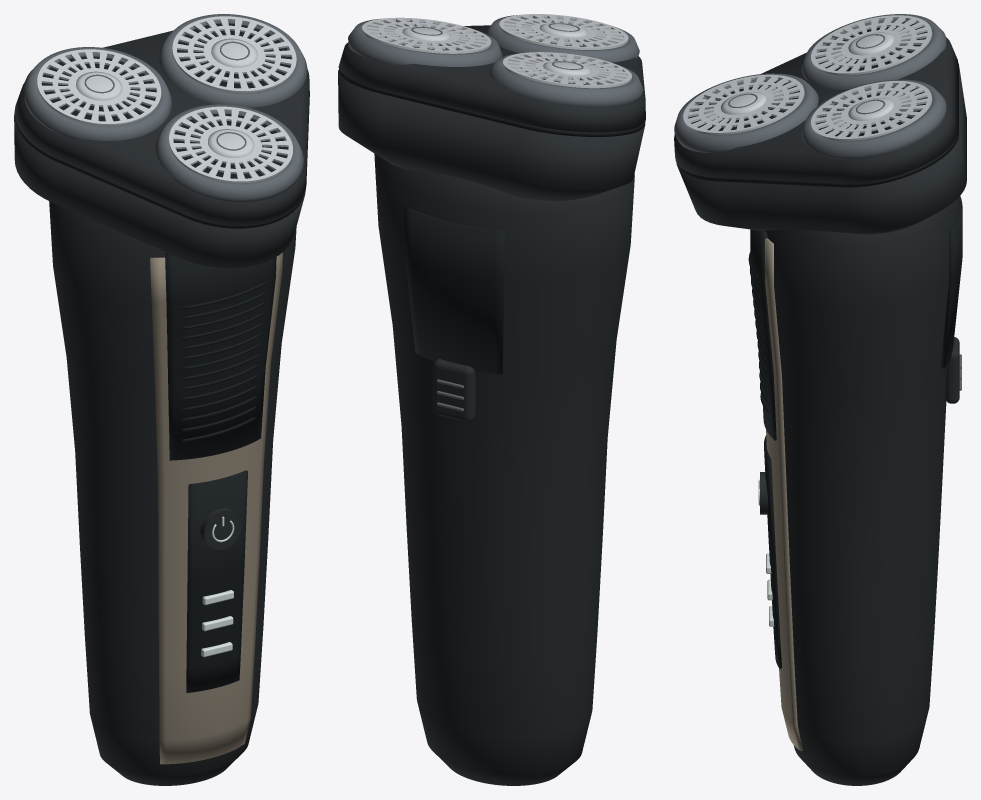
The picture shows the model from 3 angles, left to right: view 1: azimuth 30°, elevation 25°; view 2: azimuth 150°, elevation 25°; view 3: azimuth 270°, elevation 25°; orthographic projection. The views are drawn at different scales.
Parts seen in each view (by area): view 1: Contoured full-depth handle, Warm front bezel, Upper textured grip, Rounded triangular upper carrier, Rounded triangular lower head, Inset front control panel, Rotor 0 perforated stainless foil, Rotor 1 perforated stainless foil, Rotor 2 perforated stainless foil, Rotor 2 beveled collar, Rotor 0 beveled collar, Rotor 1 beveled collar (+8 smaller); view 2: Contoured full-depth handle, Rounded triangular lower head, Closed rear trimmer cover, Rounded triangular upper carrier, Rotor 0 beveled collar, Rotor 0 perforated stainless foil, Rotor 1 perforated stainless foil, Rotor 2 perforated stainless foil, Rotor 1 beveled collar, Rear trimmer release, Rotor 2 beveled collar, Closed head perimeter seam (+2 smaller); view 3: Contoured full-depth handle, Rounded triangular lower head, Rounded triangular upper carrier, Warm front bezel, Rotor 0 perforated stainless foil, Rotor 2 perforated stainless foil, Rotor 1 perforated stainless foil, Rotor 1 beveled collar, Rotor 2 beveled collar, Rotor 0 beveled collar, Upper textured grip, Closed rear trimmer cover (+6 smaller).
Part boxes in pixels (x1=…): Contoured full-depth handle: x1=49, y1=201, x2=296, y2=785; Warm front bezel: x1=150, y1=252, x2=282, y2=764; Upper textured grip: x1=165, y1=253, x2=276, y2=460; Rounded triangular upper carrier: x1=14, y1=30, x2=309, y2=225; Rounded triangular lower head: x1=14, y1=113, x2=305, y2=268; Inset front control panel: x1=186, y1=470, x2=247, y2=692; Rotor 0 perforated stainless foil: x1=37, y1=49, x2=161, y2=125; Rotor 1 perforated stainless foil: x1=172, y1=16, x2=296, y2=92; Rotor 2 perforated stainless foil: x1=168, y1=106, x2=292, y2=183; Rotor 2 beveled collar: x1=155, y1=104, x2=303, y2=202; Rotor 0 beveled collar: x1=23, y1=47, x2=171, y2=140; Rotor 1 beveled collar: x1=159, y1=14, x2=307, y2=107; Contoured full-depth handle: x1=374, y1=153, x2=634, y2=785; Rounded triangular lower head: x1=338, y1=69, x2=645, y2=201; Closed rear trimmer cover: x1=404, y1=206, x2=505, y2=374; Rounded triangular upper carrier: x1=338, y1=25, x2=645, y2=132; Rotor 0 beveled collar: x1=489, y1=53, x2=643, y2=107; Rotor 0 perforated stainless foil: x1=502, y1=52, x2=631, y2=88; Rotor 1 perforated stainless foil: x1=362, y1=17, x2=491, y2=53; Rotor 2 perforated stainless foil: x1=499, y1=14, x2=628, y2=49; Rotor 1 beveled collar: x1=348, y1=18, x2=502, y2=66; Rear trimmer release: x1=433, y1=359, x2=475, y2=421; Rotor 2 beveled collar: x1=485, y1=15, x2=639, y2=62; Closed head perimeter seam: x1=339, y1=70, x2=644, y2=136; Contoured full-depth handle: x1=765, y1=198, x2=958, y2=785; Rounded triangular lower head: x1=676, y1=63, x2=966, y2=234; Rounded triangular upper carrier: x1=674, y1=37, x2=958, y2=183; Warm front bezel: x1=765, y1=238, x2=802, y2=750; Rotor 0 perforated stainless foil: x1=811, y1=15, x2=932, y2=75; Rotor 2 perforated stainless foil: x1=683, y1=74, x2=804, y2=134; Rotor 1 perforated stainless foil: x1=811, y1=81, x2=932, y2=140; Rotor 1 beveled collar: x1=801, y1=79, x2=946, y2=159; Rotor 2 beveled collar: x1=674, y1=73, x2=818, y2=153; Rotor 0 beveled collar: x1=801, y1=14, x2=946, y2=89; Upper textured grip: x1=750, y1=229, x2=776, y2=440; Closed rear trimmer cover: x1=940, y1=196, x2=962, y2=368.
Size of the model in its own units: 6.5 by 16.1 by 6.04.
